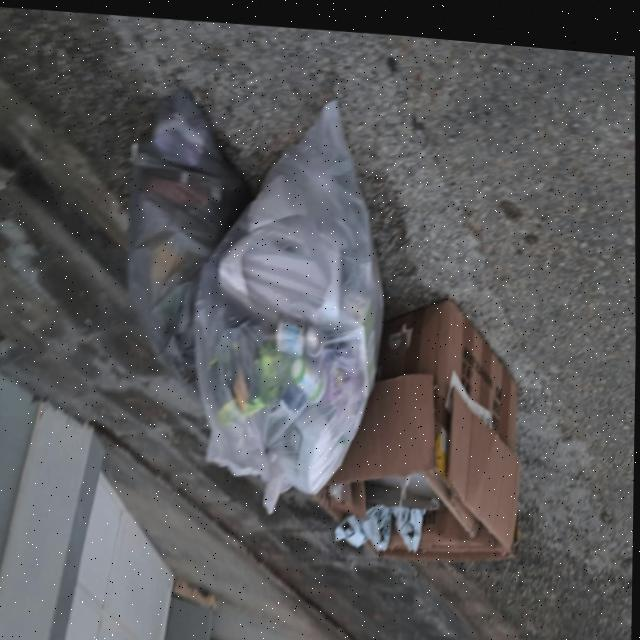Recycled Waste -Grey or Green Bag-: (191, 84, 389, 518), (308, 277, 528, 565), (122, 76, 257, 397)
